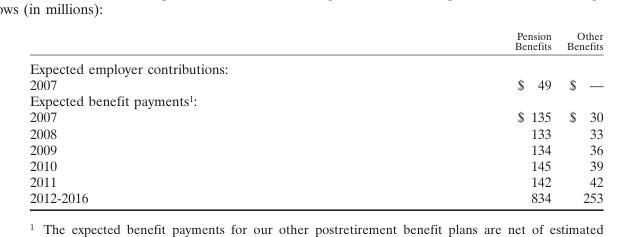table: (28, 28, 602, 205)
table column: (28, 28, 300, 205), (300, 28, 558, 205), (558, 28, 602, 205)
table column header: (28, 28, 602, 55)
table projected row header: (28, 55, 602, 76), (28, 92, 602, 108)
table row: (28, 28, 602, 55), (28, 55, 602, 76), (28, 140, 602, 157), (28, 76, 602, 92), (28, 92, 602, 108), (28, 108, 602, 124), (28, 124, 602, 140), (28, 157, 602, 173), (28, 173, 602, 189), (28, 189, 602, 205)
